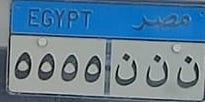5: (82, 50, 105, 88), (36, 50, 58, 83), (12, 50, 34, 82), (59, 50, 79, 85)
noon: (144, 52, 172, 89), (113, 52, 141, 89), (174, 54, 201, 90)
